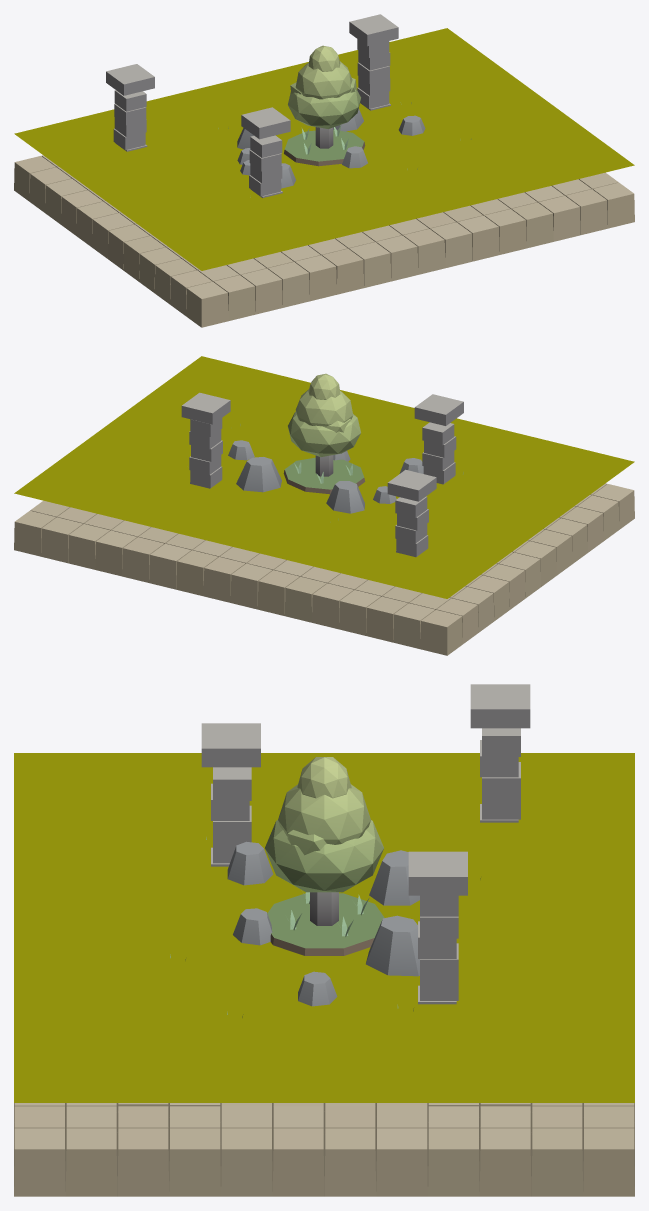
File: lago_ruinas.glb
3 renders of one model, top to bottom at view 1: azimuth 30°, elevation 25°; view 2: azimuth 150°, elevation 25°; view 3: azimuth 270°, elevation 25°, orthographic. The views are drawn at different scales.
Parts seen in each view (by area): view 1: Water_Surface, Riverbed, Tree_Canopy, Ruin_Pillar_NE, Ruin_Pillar_SW, Ruin_Pillar_NW, Soil_Island; view 2: Water_Surface, Riverbed, Tree_Canopy, Ruin_Pillar_NE, Ruin_Pillar_SW, Ruin_Pillar_NW, Soil_Island, Rock_NE_Big, Rock_NW_Big; view 3: Water_Surface, Riverbed, Tree_Canopy, Ruin_Pillar_NE, Ruin_Pillar_NW, Ruin_Pillar_SW, Soil_Island, Rock_NE_Big, Rock_NW_Big, Rock_SW_NearPillar, Rock_Center_Front, Rock_East_1 (+1 smaller).
Part boxes in pixels (bbox=[...]): Water_Surface: bbox=[14, 28, 634, 270]; Riverbed: bbox=[14, 155, 634, 327]; Tree_Canopy: bbox=[288, 45, 360, 128]; Ruin_Pillar_NE: bbox=[349, 14, 398, 110]; Ruin_Pillar_SW: bbox=[241, 107, 290, 197]; Ruin_Pillar_NW: bbox=[106, 64, 154, 151]; Soil_Island: bbox=[284, 129, 365, 166]; Water_Surface: bbox=[14, 356, 634, 598]; Riverbed: bbox=[14, 483, 634, 655]; Tree_Canopy: bbox=[288, 373, 360, 457]; Ruin_Pillar_NE: bbox=[181, 392, 230, 488]; Ruin_Pillar_SW: bbox=[414, 394, 463, 484]; Ruin_Pillar_NW: bbox=[387, 469, 436, 557]; Soil_Island: bbox=[283, 457, 365, 494]; Rock_NE_Big: bbox=[236, 457, 281, 492]; Rock_NW_Big: bbox=[326, 481, 364, 513]; Water_Surface: bbox=[14, 753, 634, 1102]; Riverbed: bbox=[14, 1103, 634, 1196]; Tree_Canopy: bbox=[265, 757, 383, 892]; Ruin_Pillar_NE: bbox=[408, 851, 467, 1004]; Ruin_Pillar_NW: bbox=[470, 684, 530, 822]; Ruin_Pillar_SW: bbox=[201, 723, 260, 866]; Soil_Island: bbox=[267, 893, 384, 955]; Rock_NE_Big: bbox=[366, 915, 419, 976]; Rock_NW_Big: bbox=[369, 850, 419, 905]; Rock_SW_NearPillar: bbox=[227, 841, 273, 885]; Rock_Center_Front: bbox=[233, 908, 272, 945]; Rock_East_1: bbox=[298, 971, 337, 1006].
Size of the model in its own units: 16 by 5.64 by 12.
